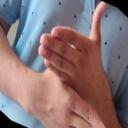hand: (39, 2, 107, 96), (28, 68, 108, 128)
